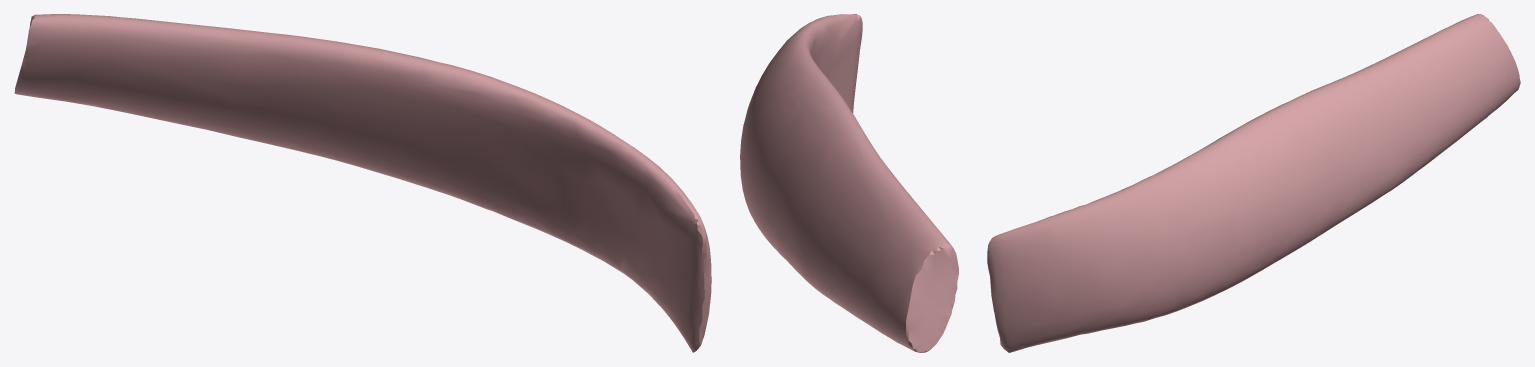
The model's file is fma319839_mm2223.glb.
3 renders of one model, left to right at view 1: azimuth 30°, elevation 25°; view 2: azimuth 150°, elevation 25°; view 3: azimuth 270°, elevation 25°, orthographic. The views are drawn at different scales.
Parts seen in each view (by area): view 1: FMA319839_MM2223; view 2: FMA319839_MM2223; view 3: FMA319839_MM2223.
Part boxes in pixels (x1,y1,x2,y2): FMA319839_MM2223: [14, 14, 711, 352]; FMA319839_MM2223: [740, 14, 958, 352]; FMA319839_MM2223: [987, 14, 1520, 352].
Bounding box in the file's own units: 0.0207 × 0.0108 × 0.0279.
